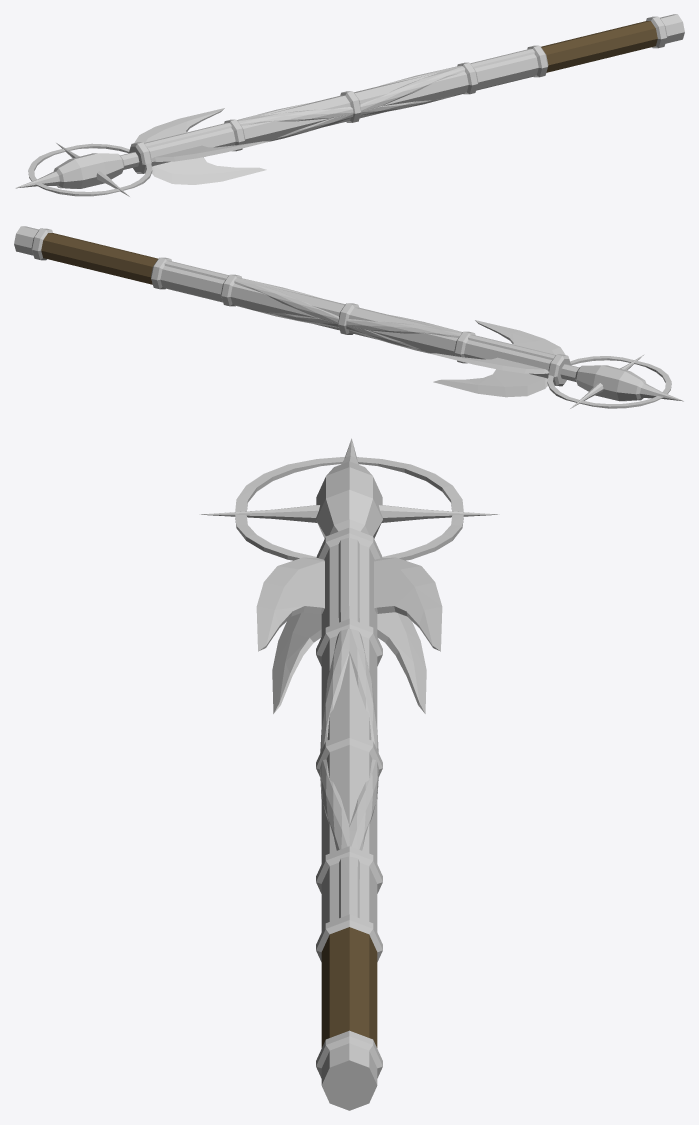
Rendered from ITMW_MAGESTAFF_GOOD_2H_01.OBJ.
The picture shows the model from 3 angles, top to bottom: view 1: azimuth 30°, elevation 25°; view 2: azimuth 150°, elevation 25°; view 3: azimuth 270°, elevation 25°; orthographic projection. The views are drawn at different scales.
Visible parts, largest first — view 1: ITMW_MAGESTAFF_GOOD_2H_01; view 2: ITMW_MAGESTAFF_GOOD_2H_01; view 3: ITMW_MAGESTAFF_GOOD_2H_01.
Boxes of the visible parts, bbox=[...] form: ITMW_MAGESTAFF_GOOD_2H_01: bbox=[15, 14, 684, 196]; ITMW_MAGESTAFF_GOOD_2H_01: bbox=[14, 226, 683, 408]; ITMW_MAGESTAFF_GOOD_2H_01: bbox=[199, 438, 499, 1110].
Bounding box in the file's own units: 1.48 × 0.0845 × 0.2934.
